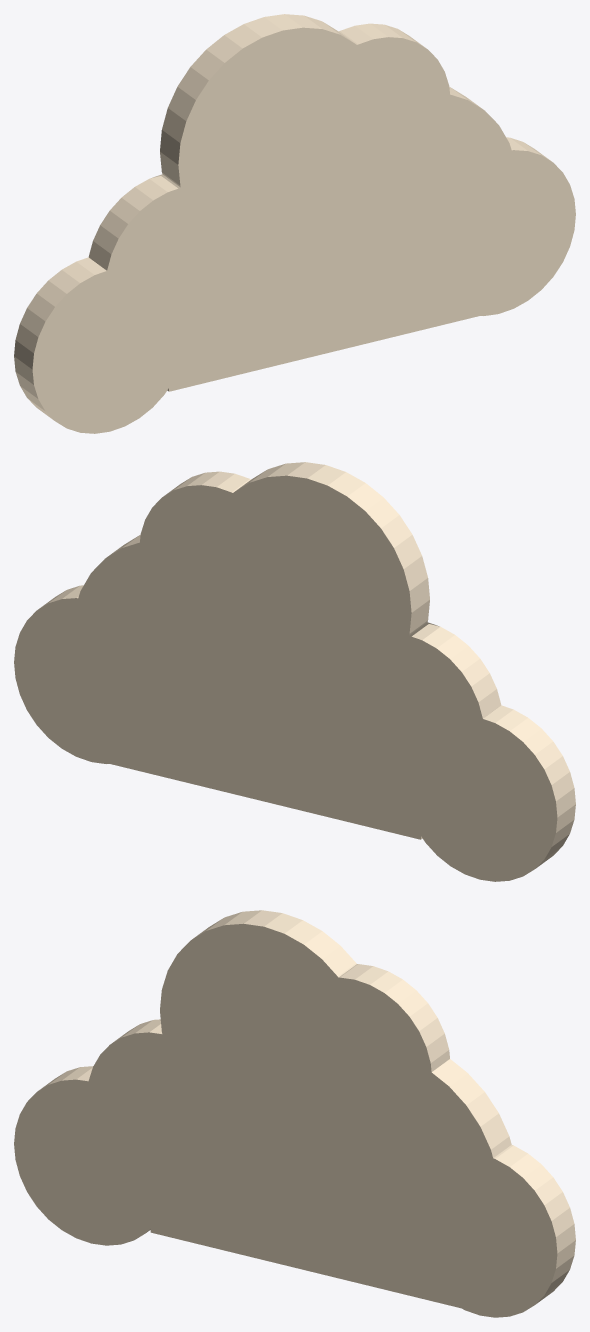
The model's file is cloud.obj.
3 renders of one model, top to bottom at view 1: azimuth 30°, elevation 25°; view 2: azimuth 150°, elevation 25°; view 3: azimuth 330°, elevation 25°, orthographic.
Parts seen in each view (by area): view 1: 立方体; view 2: 立方体; view 3: 立方体.
Part boxes in pixels (x1,y1,x2,y2): 立方体: (14,14,575,433); 立方体: (14,462,575,881); 立方体: (14,910,575,1317).
Size of the model in its own units: 7.03 by 4.44 by 0.415.
Materials: 1 (1 with a texture image).
